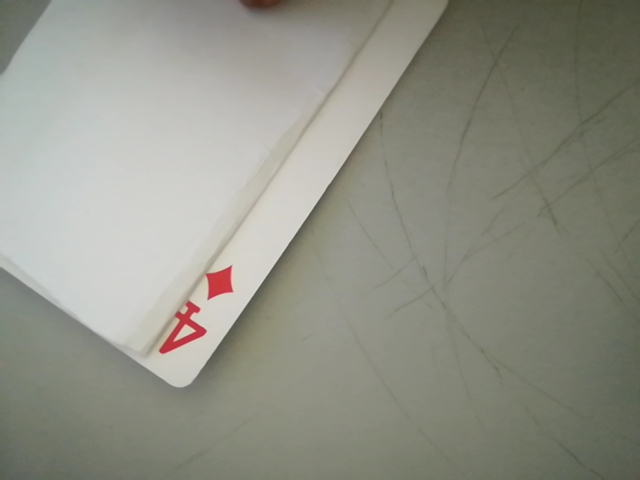fk 4: (147, 261, 248, 367)
